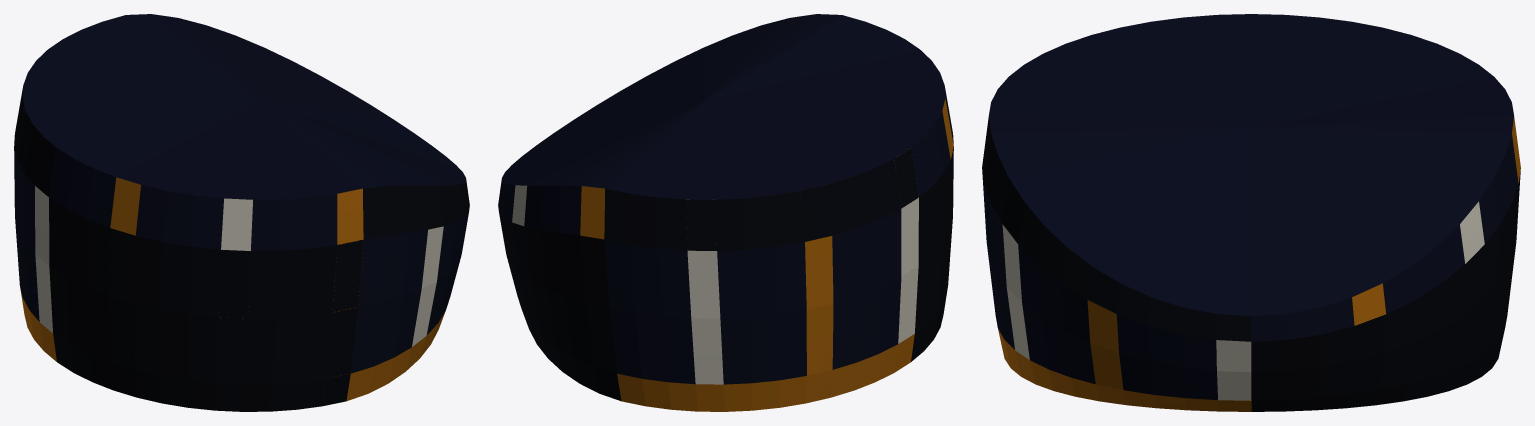
File: pk_fila.glb
3 views of the same model, side by side, from view 1: azimuth 30°, elevation 25°; view 2: azimuth 150°, elevation 25°; view 3: azimuth 270°, elevation 25° (orthographic). The views are drawn at different scales.
Parts seen in each view (by area): view 1: pk_fila; view 2: pk_fila; view 3: pk_fila.
Part boxes in pixels (x1=…): pk_fila: x1=14, y1=14, x2=469, y2=411; pk_fila: x1=498, y1=14, x2=953, y2=411; pk_fila: x1=982, y1=14, x2=1520, y2=411.
Size of the model in its own units: 0.218 by 0.116 by 0.238.
